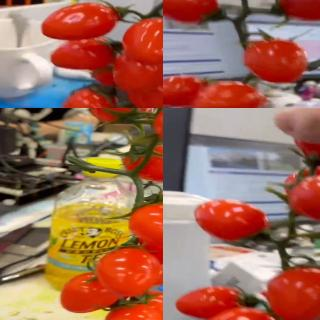tomato: (97, 245, 162, 297), (196, 201, 270, 246), (40, 2, 121, 41), (242, 38, 308, 85), (268, 267, 320, 320), (173, 286, 249, 320), (61, 272, 124, 312), (50, 37, 118, 72), (192, 79, 266, 108), (113, 53, 163, 95), (122, 17, 163, 66), (284, 168, 320, 223), (120, 143, 163, 183), (129, 202, 163, 248), (163, 0, 224, 24), (163, 75, 207, 108), (60, 87, 119, 108), (86, 108, 150, 127), (123, 290, 163, 320), (128, 74, 163, 108), (195, 308, 281, 320), (271, 0, 320, 21), (104, 304, 163, 320)
